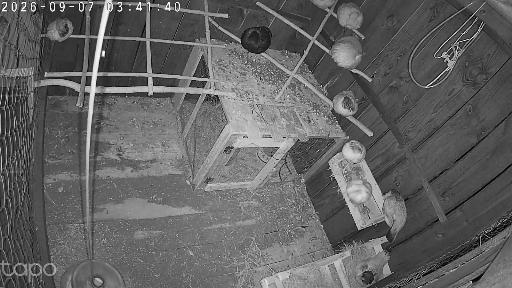frango: (47, 17, 73, 43)
galinha: (356, 247, 394, 286), (383, 188, 408, 243), (241, 26, 273, 55), (337, 2, 364, 30), (331, 91, 358, 118), (346, 178, 372, 204), (341, 139, 366, 164), (312, 0, 336, 9)
galo: (331, 37, 362, 69)
